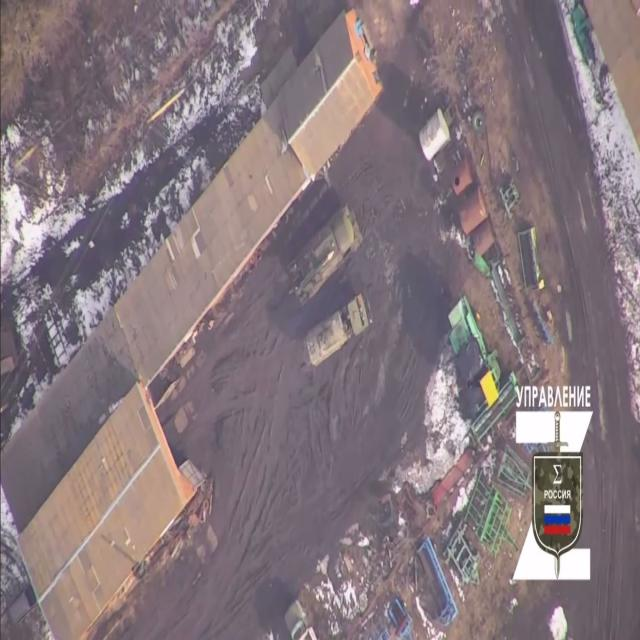fortification: (0, 306, 188, 639), (114, 238, 230, 392), (278, 7, 388, 165), (181, 164, 278, 286), (229, 86, 319, 210), (449, 297, 494, 400), (415, 110, 457, 172), (446, 152, 479, 195), (469, 220, 499, 262), (461, 191, 489, 234)
vehicle: (286, 208, 363, 292), (306, 304, 386, 364)
